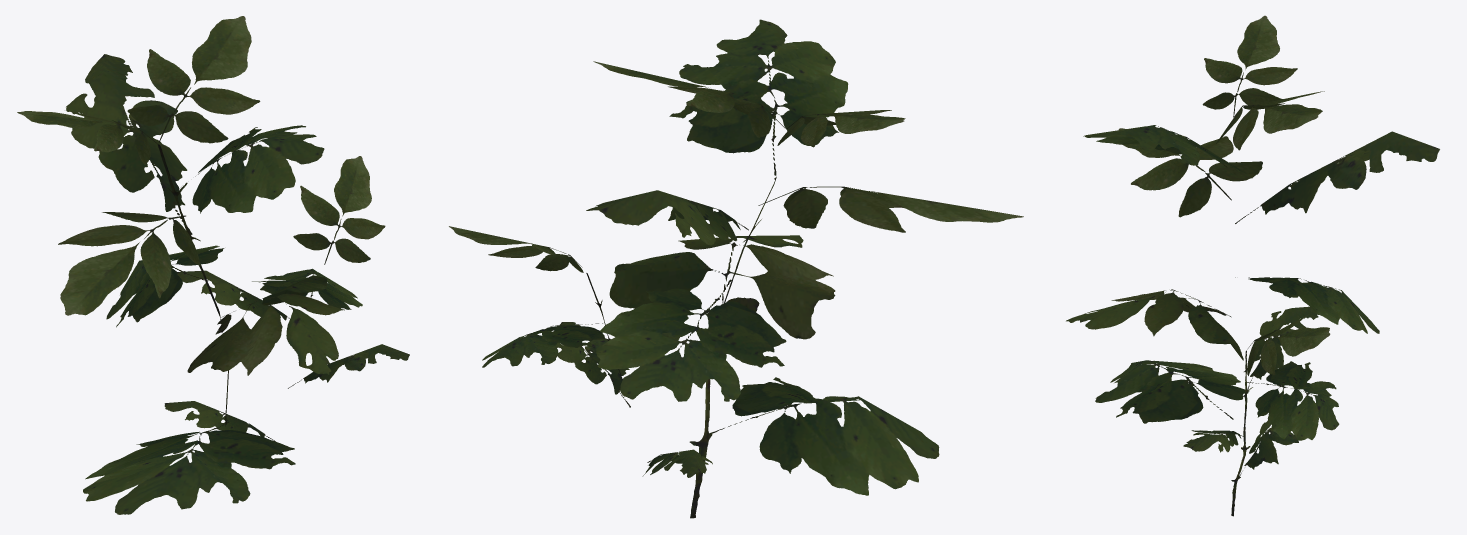
File: prop_saplin_002_b.FBX
3 renders of one model, left to right at view 1: azimuth 30°, elevation 25°; view 2: azimuth 150°, elevation 25°; view 3: azimuth 270°, elevation 25°, orthographic. The views are drawn at different scales.
Visible parts, largest first — view 1: prop_saplin_002_b; view 2: prop_saplin_002_b; view 3: prop_saplin_002_b.
Boxes of the visible parts, <box> form: prop_saplin_002_b: <box>17,16,409,514</box>; prop_saplin_002_b: <box>449,19,1023,518</box>; prop_saplin_002_b: <box>1066,15,1439,516</box>.
Bounding box in the file's own units: 1.29 × 1.16 × 1.32.
1 material, 1 textured.
